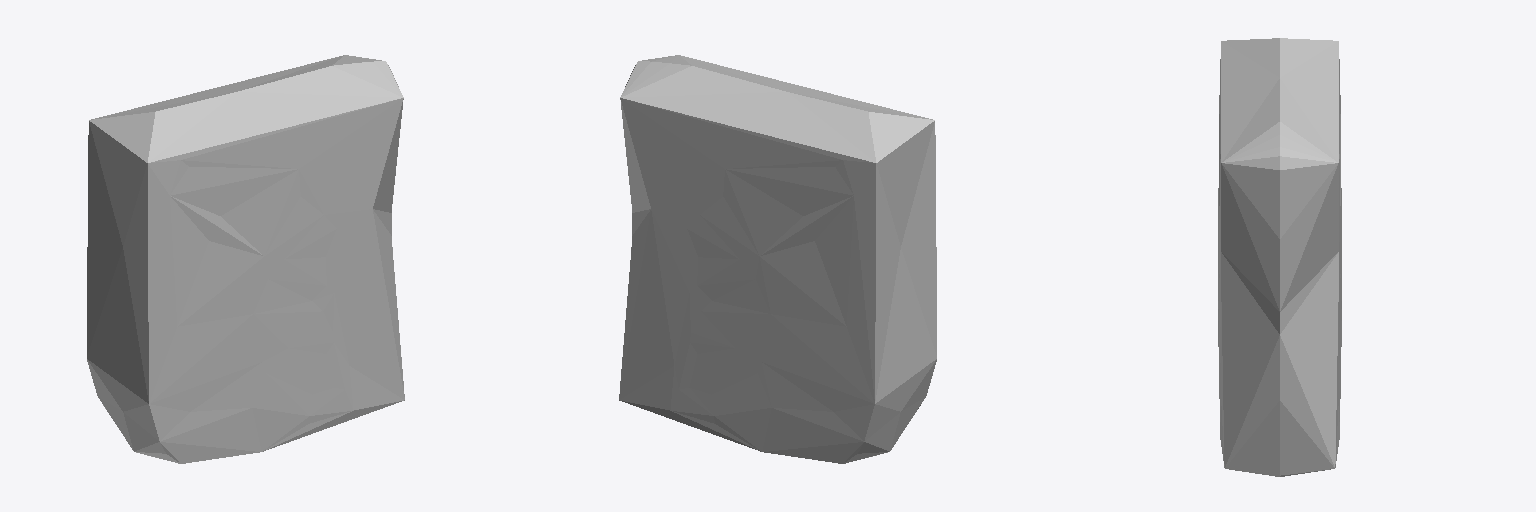
Rendered from toddy.obj.
The picture shows the model from 3 angles: view 1: azimuth 30°, elevation 25°; view 2: azimuth 150°, elevation 25°; view 3: azimuth 270°, elevation 25°; orthographic projection.
Parts seen in each view (by area): view 1: grp1; view 2: grp1; view 3: grp1.
Part boxes in pixels (x1,y1,x2,y2): grp1: (87, 55, 404, 463); grp1: (619, 55, 936, 463); grp1: (1218, 38, 1341, 476).
Size of the model in its own units: 102 by 121 by 39.91.